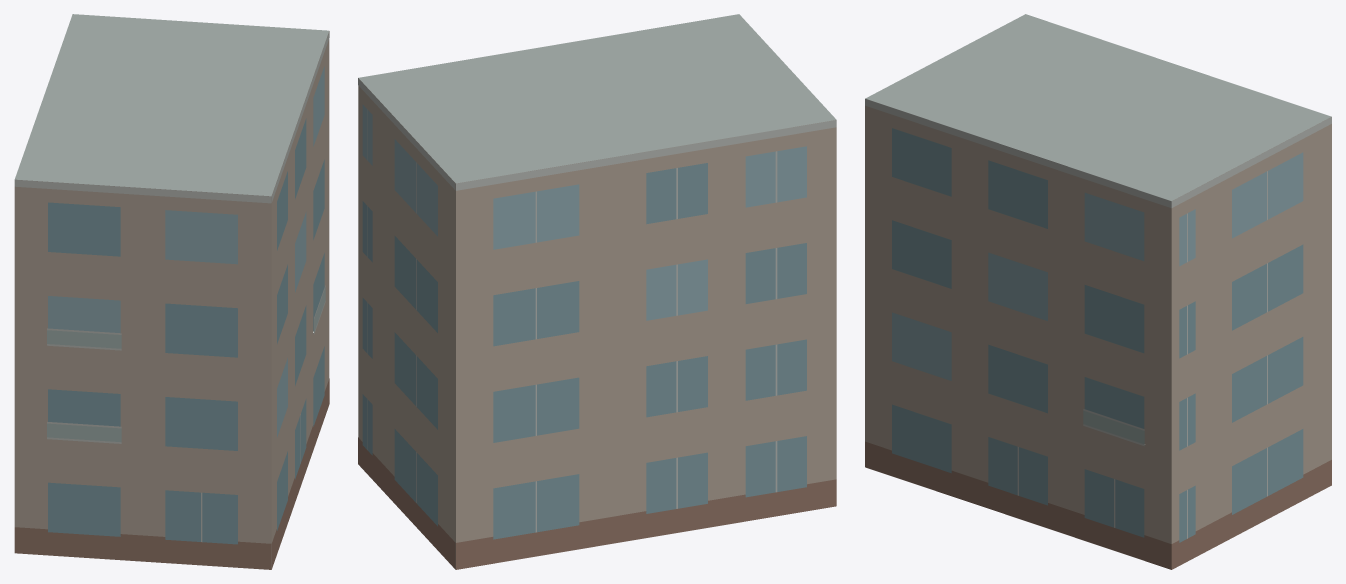
File: survey-upis-32826590.glb
The picture shows the model from 3 angles, left to right: view 1: azimuth 30°, elevation 25°; view 2: azimuth 150°, elevation 25°; view 3: azimuth 270°, elevation 25°; orthographic projection. The views are drawn at different scales.
Visible parts, largest first — view 1: survey-upis-32826590.tmp; view 2: survey-upis-32826590.tmp; view 3: survey-upis-32826590.tmp.
Part boxes in pixels (left/top/right/bottom): survey-upis-32826590.tmp: left=14, top=14, right=329, bottom=569; survey-upis-32826590.tmp: left=358, top=14, right=836, bottom=569; survey-upis-32826590.tmp: left=865, top=14, right=1331, bottom=569.
Bounding box in the file's own units: 13.95 × 12.8 × 14.69.
